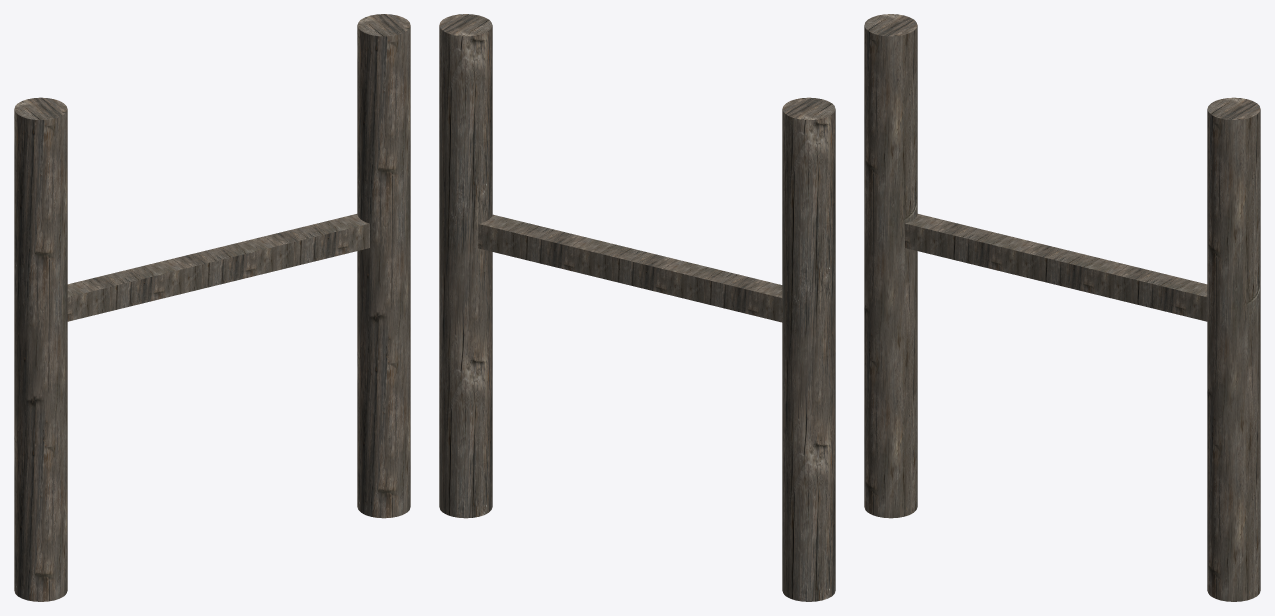
Rendered from formah.fbx.
3 renders of one model, left to right at view 1: azimuth 30°, elevation 25°; view 2: azimuth 150°, elevation 25°; view 3: azimuth 330°, elevation 25°, orthographic.
Parts seen in each view (by area): view 1: Cylinder.003, Cylinder.002, marco.001; view 2: Cylinder.003, Cylinder.002, marco.001; view 3: Cylinder.002, Cylinder.003, marco.001.
Boxes of the visible parts, x1,y1,x2,y2 form: Cylinder.003: (14, 97, 67, 601); Cylinder.002: (357, 14, 410, 518); marco.001: (67, 214, 369, 321); Cylinder.003: (782, 97, 835, 601); Cylinder.002: (439, 14, 492, 518); marco.001: (478, 214, 782, 322); Cylinder.002: (1207, 97, 1260, 601); Cylinder.003: (864, 14, 917, 518); marco.001: (905, 214, 1207, 321).
Bounding box in the file's own units: 507 × 600 × 60.
3 materials, 3 textured.
